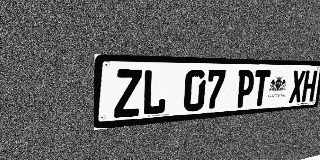0: (183, 70, 207, 112)
7: (204, 70, 226, 110)
H: (301, 70, 318, 102)
L: (141, 69, 168, 116)
P: (235, 70, 255, 108)
T: (252, 70, 271, 106)
X: (289, 70, 306, 103)
Z: (114, 69, 142, 118)
